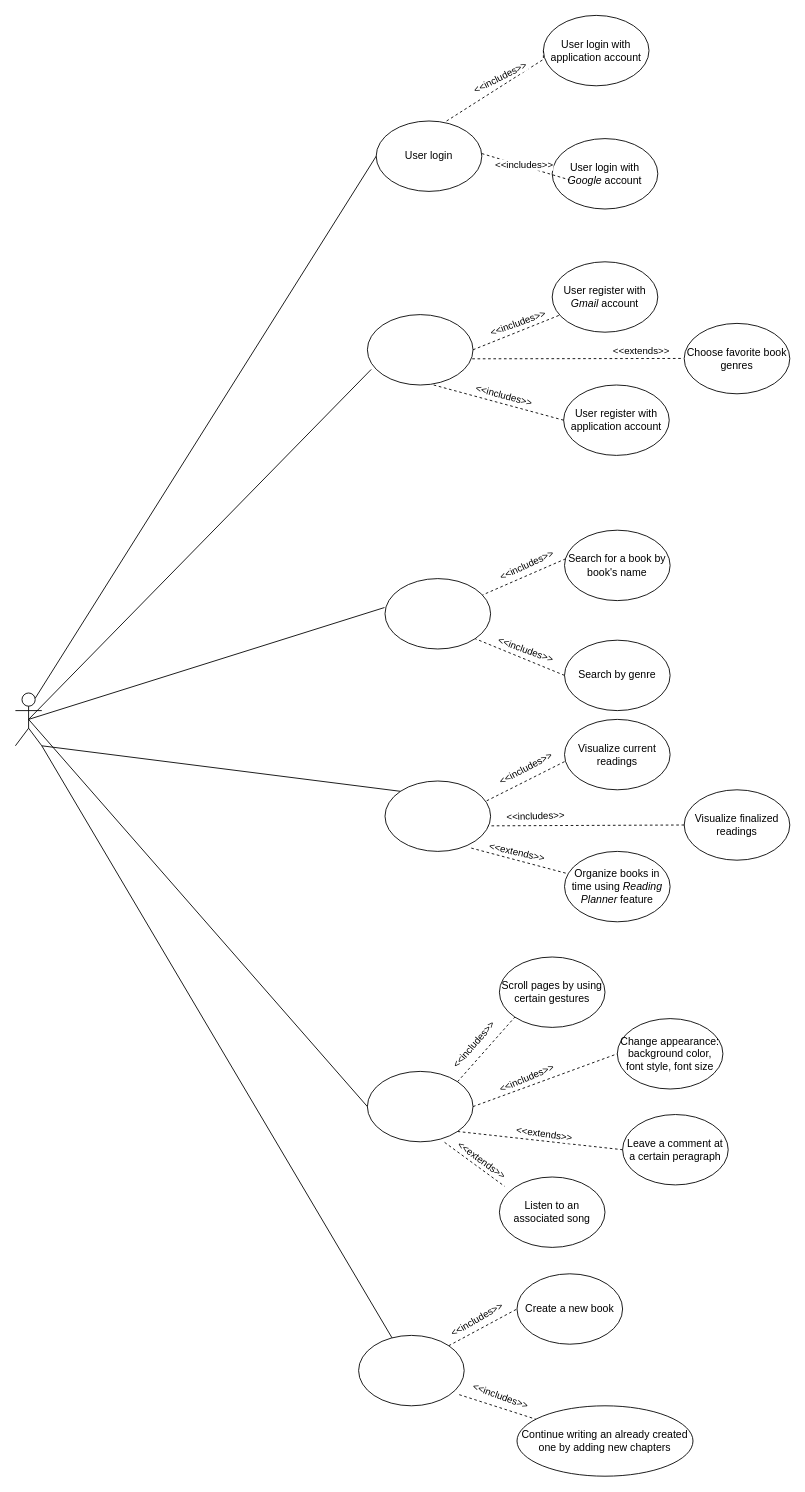
Image size: 805x1492. Some labels were removed from this diagram. Each missing label, with the box of its shape:
Access library: (384, 780, 491, 851)
Book searching: (384, 578, 491, 649)
Read a book: (367, 1071, 473, 1142)
User: (15, 692, 42, 746)
User registration: (367, 314, 473, 385)
Write a book: (358, 1335, 464, 1406)
